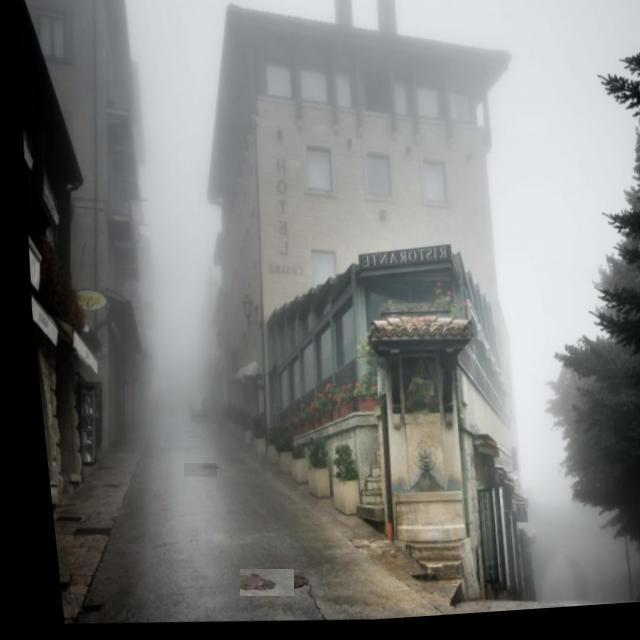Manhole: (240, 569, 294, 596), (184, 463, 217, 477)
